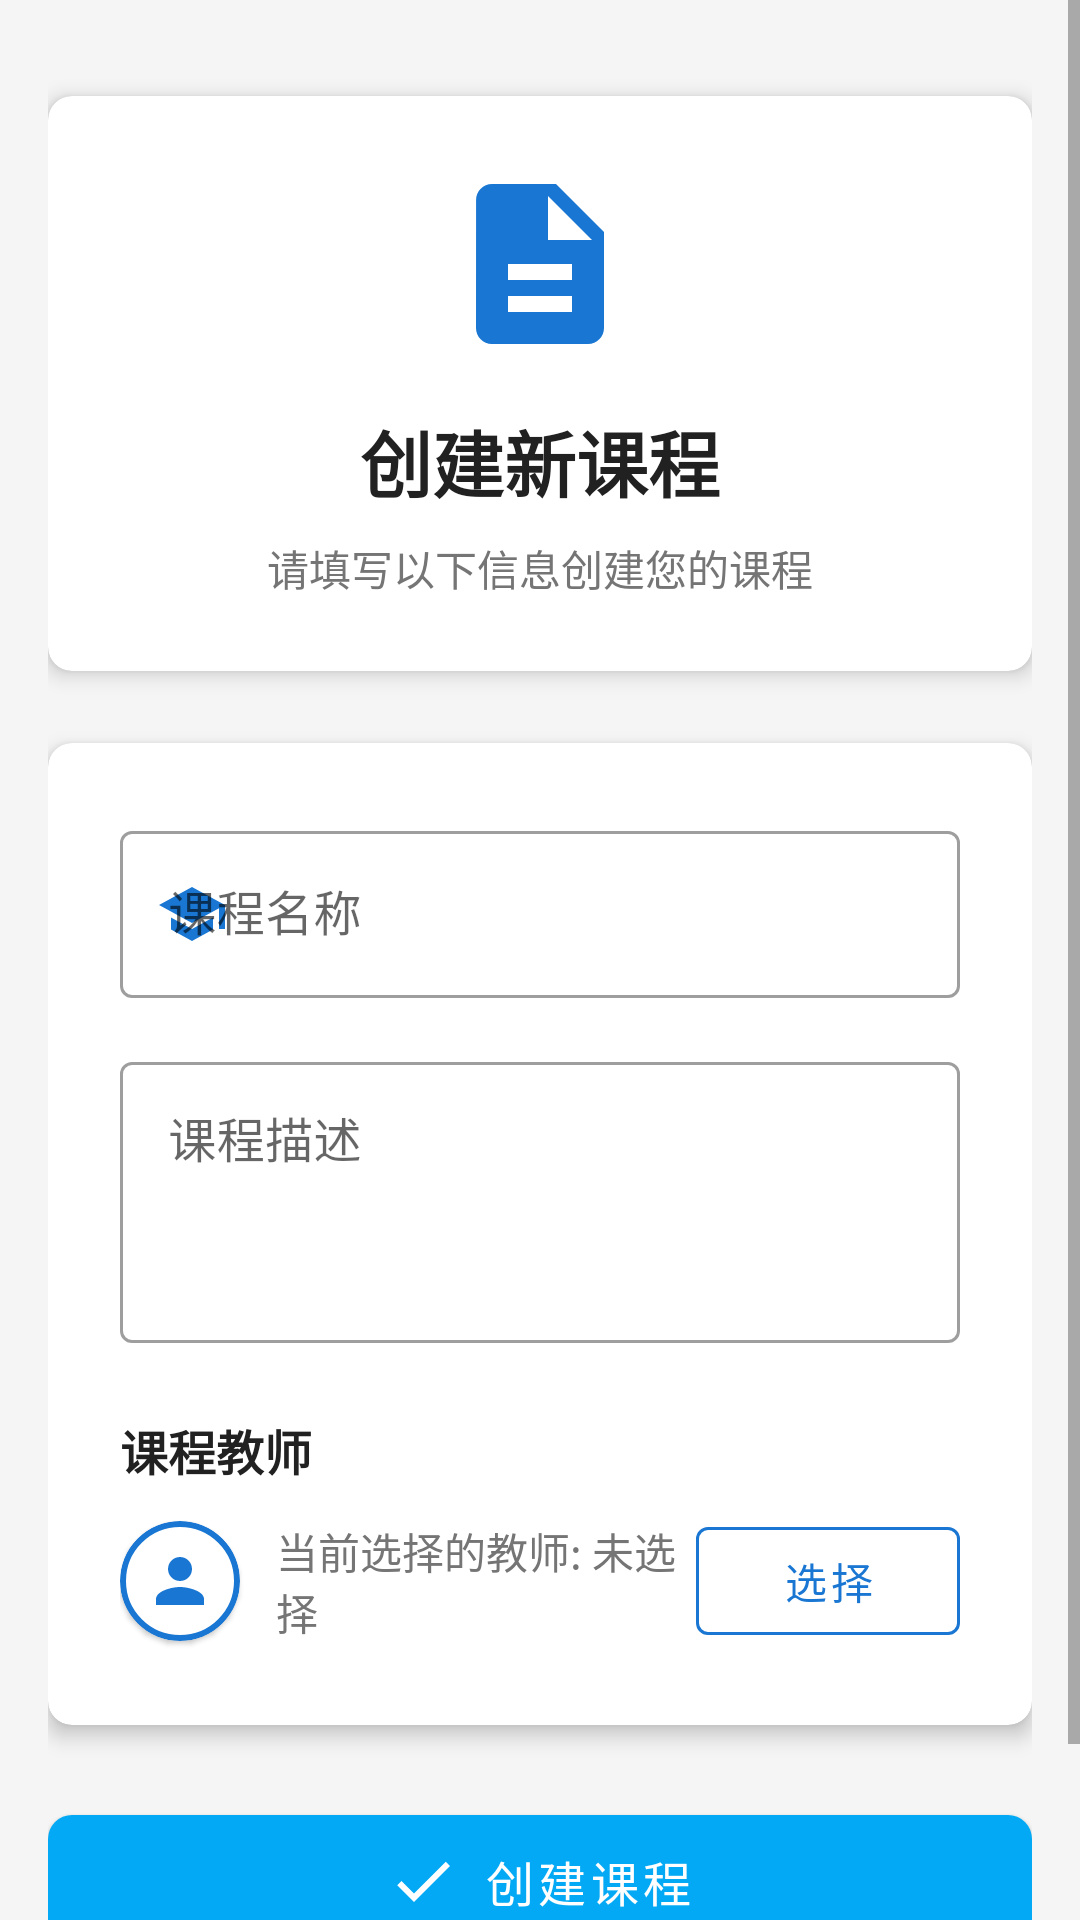

Point at icon controls on the screen. Image size 1080x1920, points as (x=x, y=y).
创建课程图标: (x=540, y=264)
